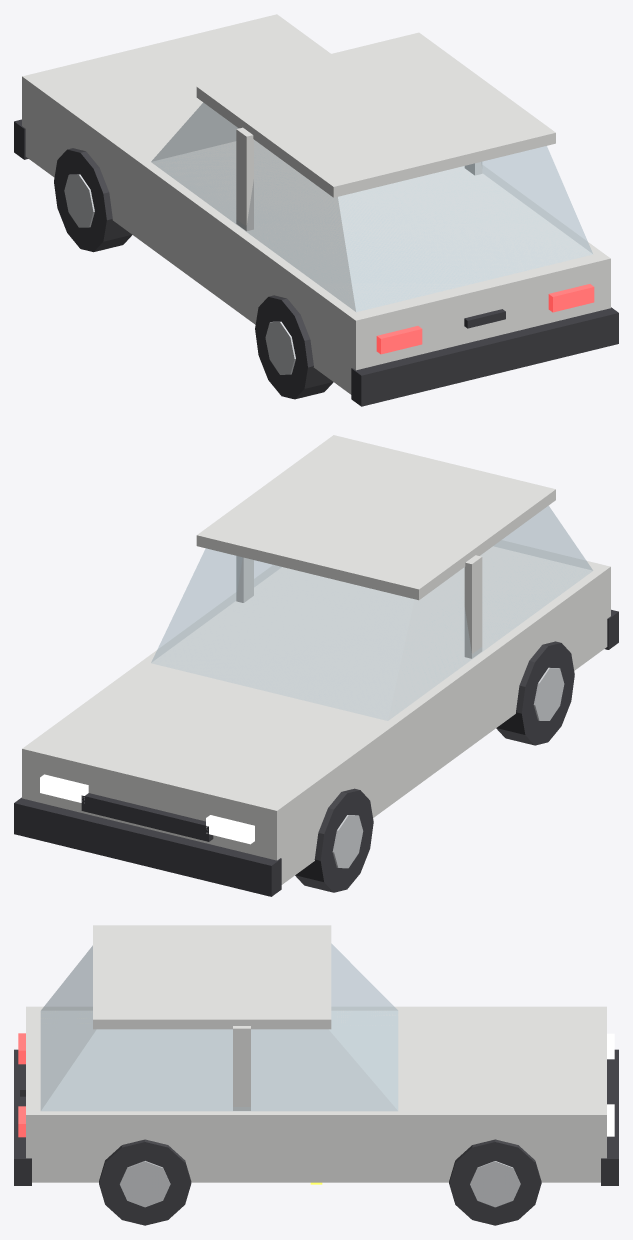
File: car_hatchback_white.glb
3 renders of one model, top to bottom at view 1: azimuth 30°, elevation 25°; view 2: azimuth 150°, elevation 25°; view 3: azimuth 270°, elevation 25°, orthographic. The views are drawn at different scales.
Parts seen in each view (by area): view 1: body, wheel_fl, wheel_rl; view 2: body, wheel_fl, wheel_rl; view 3: body, wheel_fr, wheel_rr.
Part boxes in pixels (x1,y1,x2,y2): body: (14, 14, 618, 406); wheel_fl: (54, 148, 132, 252); wheel_rl: (255, 295, 333, 399); body: (14, 435, 618, 896); wheel_fl: (295, 788, 373, 892); wheel_rl: (496, 641, 574, 745); body: (14, 925, 618, 1185); wheel_fr: (449, 1139, 541, 1225); wheel_rr: (99, 1139, 191, 1225).
Bounding box in the file's own units: 1.82 × 1.53 × 4.06.
